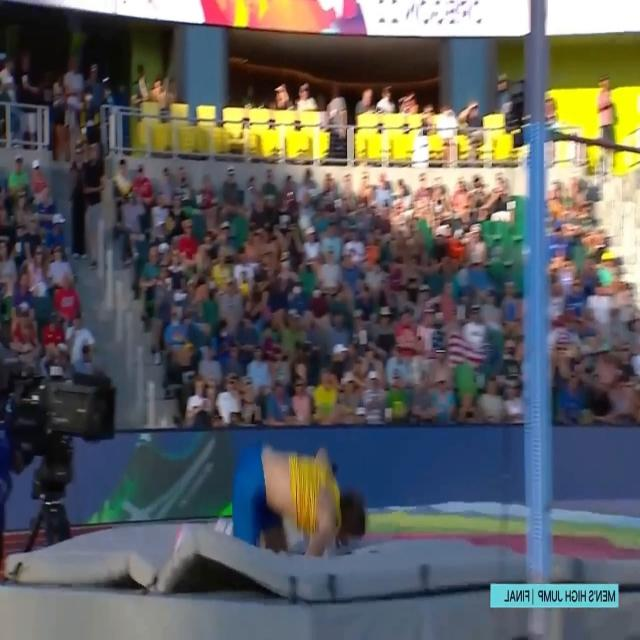land: (172, 436, 370, 572)
